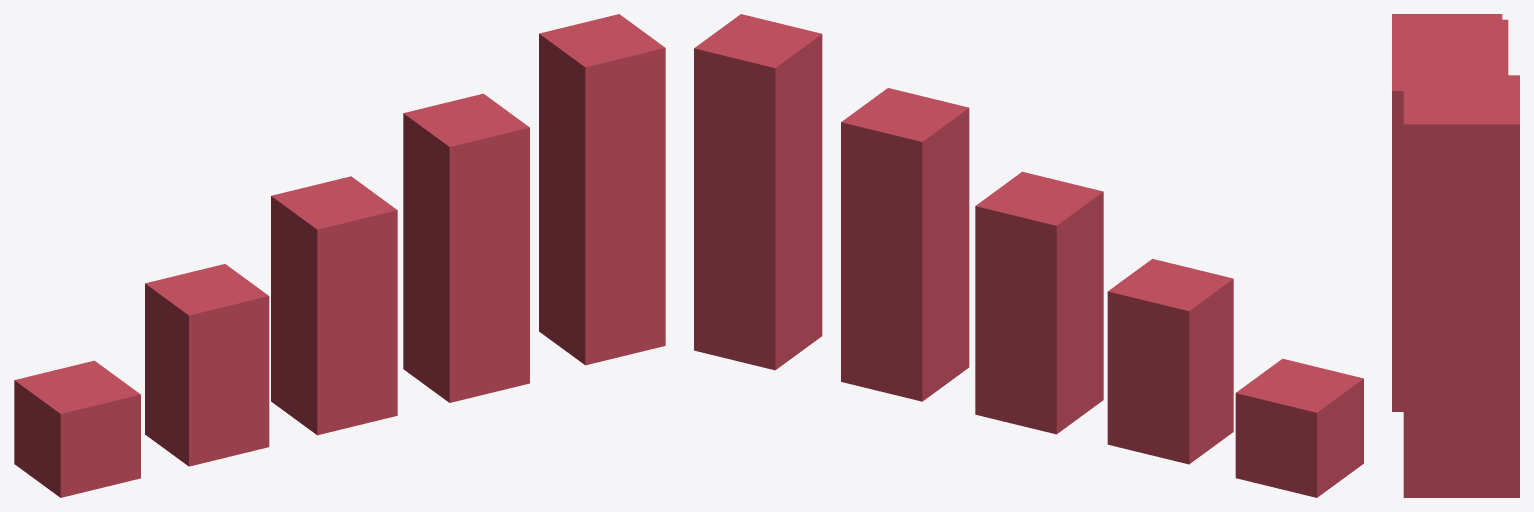
File: asset.glb
3 views of the same model, side by side, from view 1: azimuth 30°, elevation 25°; view 2: azimuth 150°, elevation 25°; view 3: azimuth 270°, elevation 25° (orthographic). The views are drawn at different scales.
Visible parts, largest first — view 1: Mesh_Mesh_head_geo.001_lambert2SG.001; view 2: Mesh_Mesh_head_geo.001_lambert2SG.001; view 3: Mesh_Mesh_head_geo.001_lambert2SG.001.
Boxes of the visible parts, bbox=[...] form: Mesh_Mesh_head_geo.001_lambert2SG.001: bbox=[14, 14, 665, 497]; Mesh_Mesh_head_geo.001_lambert2SG.001: bbox=[694, 14, 1363, 497]; Mesh_Mesh_head_geo.001_lambert2SG.001: bbox=[1392, 14, 1519, 497].
Bounding box in the file's own units: 152 × 71 × 22.
